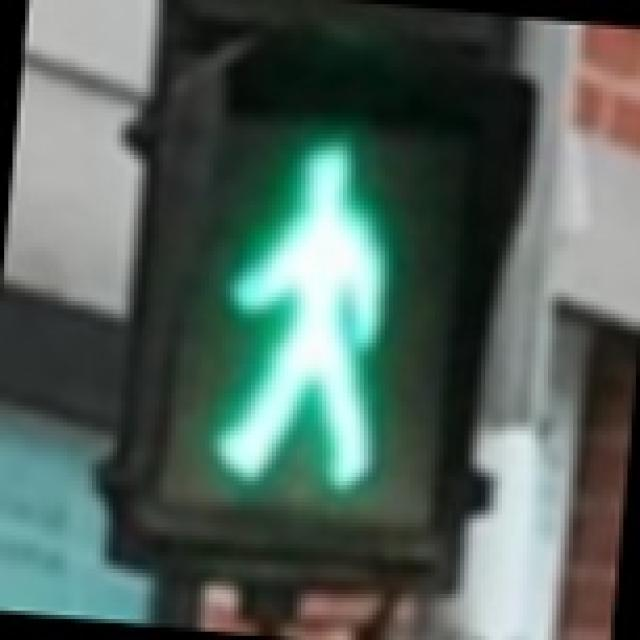geen-crossing: (146, 88, 477, 540)
